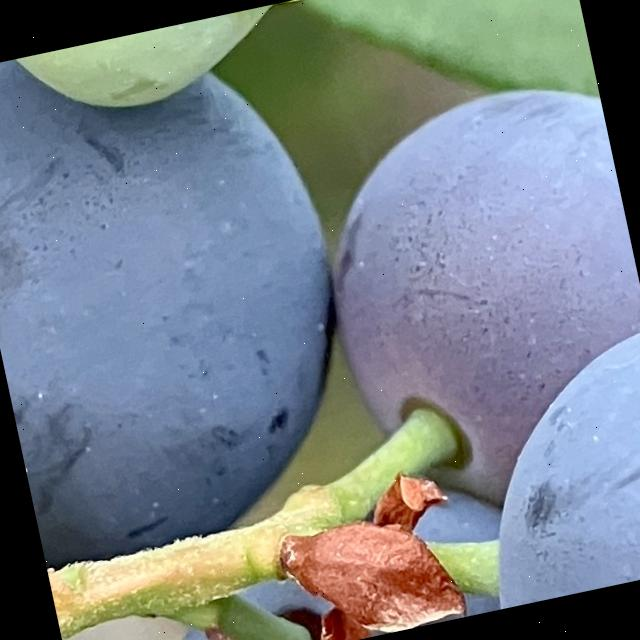Blueberries: (0, 1, 382, 560)
